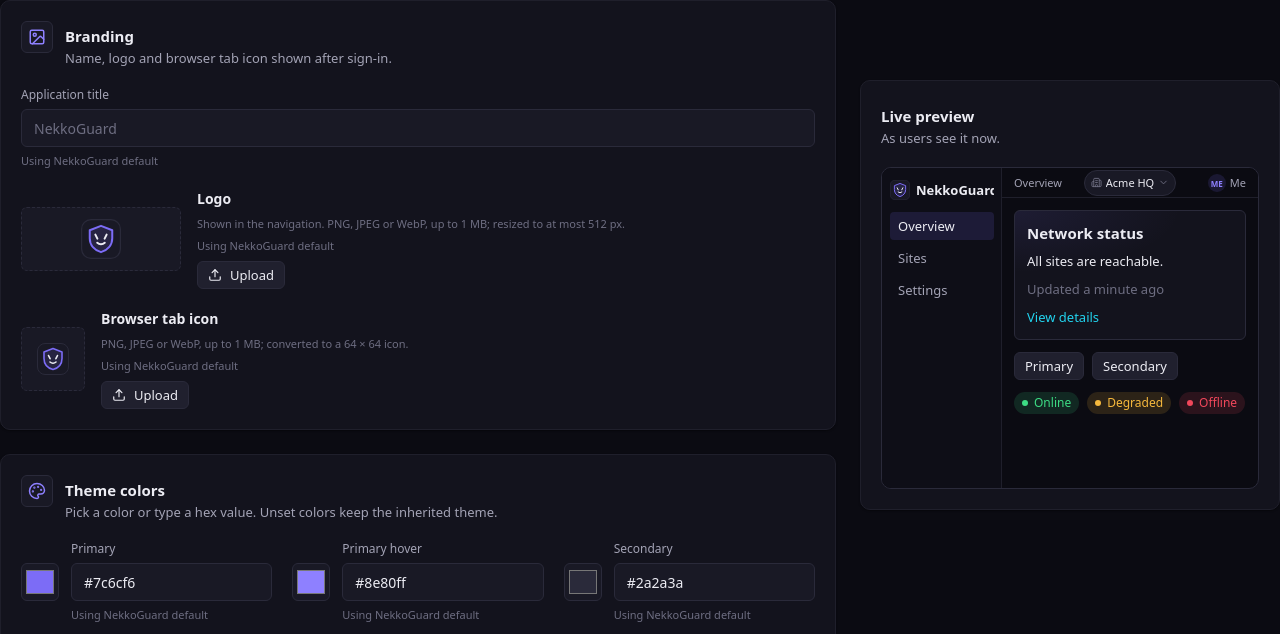
Test case: Appearance editor › flags invalid colors and low contrast
Replace the text in the field labelled "Primary" with "not-a-color" at (172, 582), box top-left (72, 564), bottom-right (271, 600)
(page scrolled)
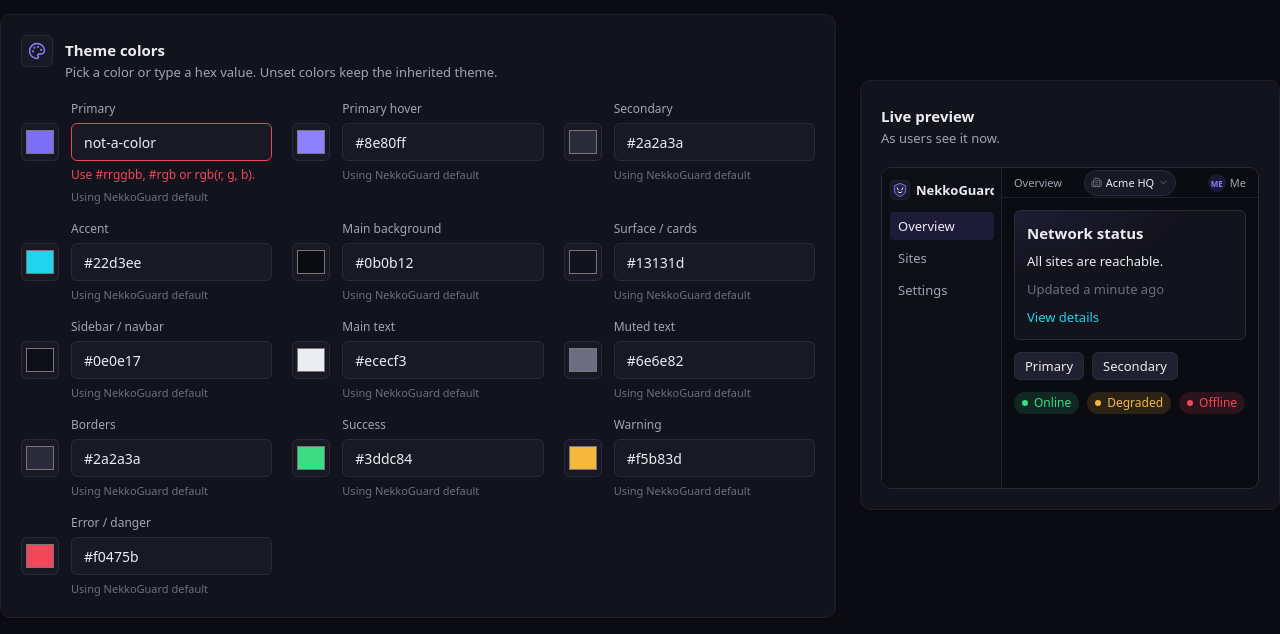
Now the text "Use #rrggbb, #rgb or rgb(r, g, b)." is shown, box top-left (71, 167), bottom-right (272, 183)
Replace the text in the field labelled "Main text" with "#0b0b12" at (443, 360), box top-left (343, 342), bottom-right (543, 378)
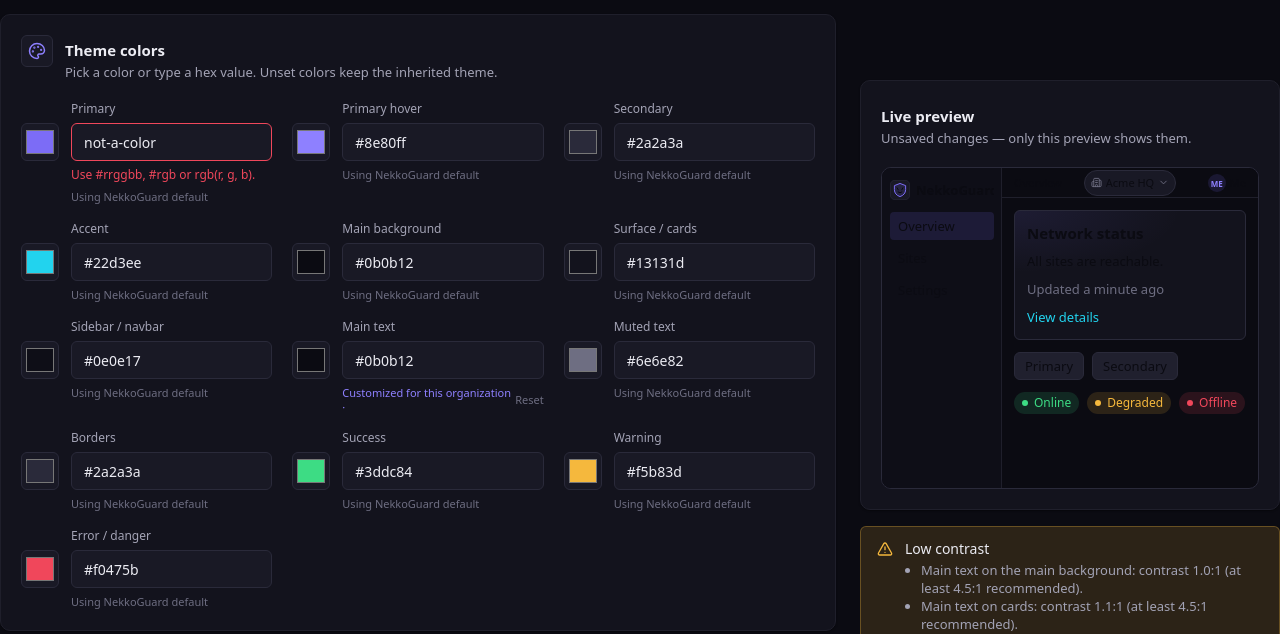
Now the text "Low contrast" is shown, box top-left (905, 539), bottom-right (989, 558)
